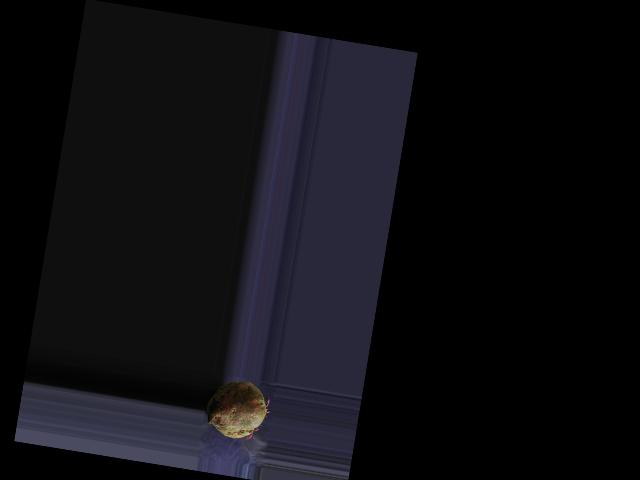beet: (202, 376, 272, 443)
